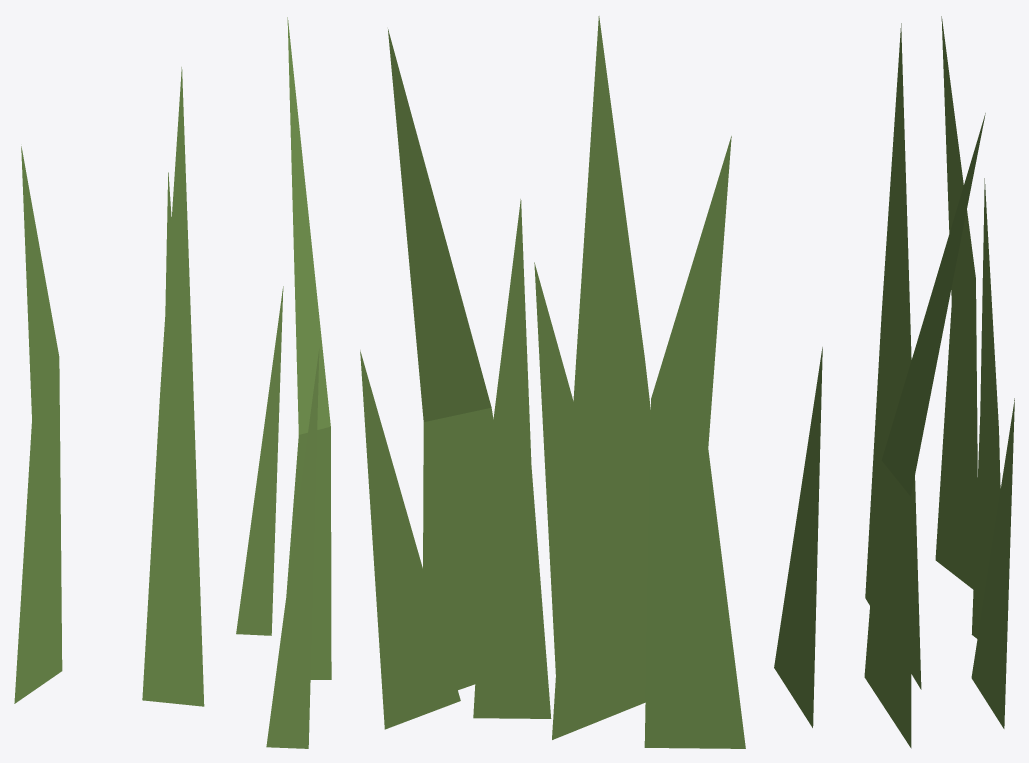
File: Grass_3.fbx
3 views of the same model, side by side, from view 1: azimuth 30°, elevation 25°; view 2: azimuth 150°, elevation 25°; view 3: azimuth 270°, elevation 25° (orthographic). The views are drawn at different scales.
Visible parts, largest first — view 1: Grass_3; view 2: Grass_3; view 3: Grass_3.
Boxes of the visible parts, box(x1,y1,x2,y2) form: Grass_3: box(14, 17, 331, 748); Grass_3: box(360, 16, 745, 748); Grass_3: box(774, 16, 1014, 748).
Size of the model in its own units: 33.34 by 69.29 by 22.69.
